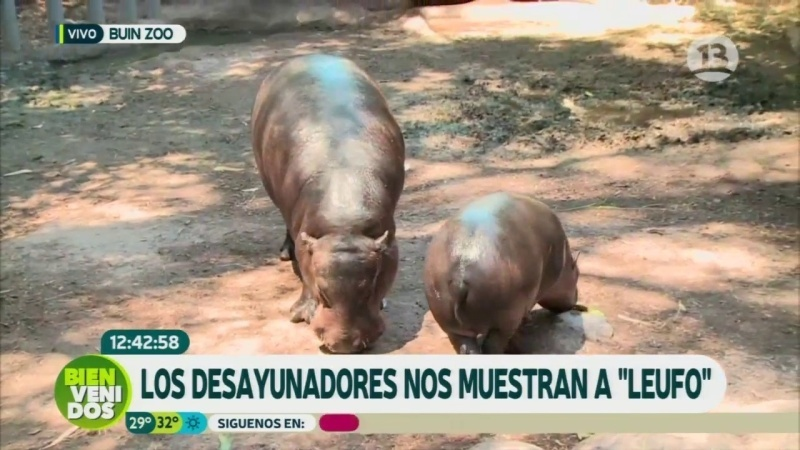hipopotamo: (233, 51, 417, 354), (414, 175, 597, 353)
